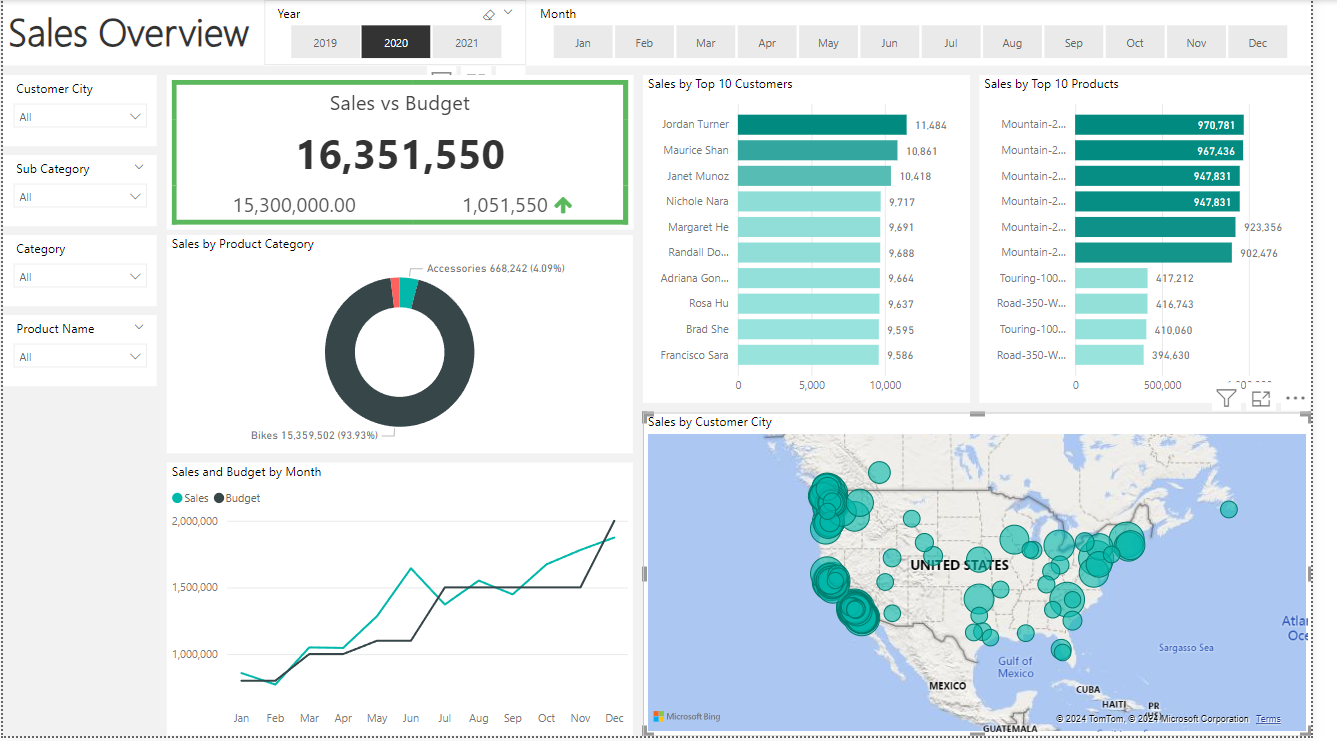

The page's visual inventory and layout, read from the dashboard file:
{"tool":"powerbi","page":{"name":"Sales Overview","canvas":[1280,720],"ordinal":0},"visuals":[{"type":"textbox","box":[0,0,1280,64],"z":0},{"type":"slicer","fields":{"Values":["DIM_Calendar.Year"]},"box":[256,0,256,64],"z":1000},{"type":"slicer","fields":{"Values":["DIM_Calendar.MonthShort"]},"box":[512,0,768,64],"z":2000},{"type":"slicer","fields":{"Values":["DIM_Customers.Customer City"]},"box":[0,73,150.5,69.3],"z":3000},{"type":"slicer","fields":{"Values":["DIM_Products.Product Category"]},"box":[0,229.9,150.5,69.3],"z":4000},{"type":"slicer","fields":{"Values":["DIM_Products.Product Name"]},"box":[0,308.4,150.5,69.3],"z":5000},{"type":"slicer","fields":{"Values":["DIM_Products.Sub Category"]},"box":[0,151.4,150.5,69.3],"z":6000},{"type":"barChart","title":"Sales by Top 10 Products","fields":{"Category":["DIM_Products.Product Name"],"Y":["Analysis Metrics.Sales"]},"box":[955.2,73,324.8,321.1],"z":7000},{"type":"lineChart","fields":{"Category":["DIM_Calendar.MonthShort"],"Y":["Analysis Metrics.Sales","Analysis Metrics.Budget"]},"box":[160.7,452.8,456.3,267.2],"z":8000},{"type":"barChart","title":"Sales by Top 10 Customers","fields":{"Category":["DIM_Customers.Full Name"],"Y":["Analysis Metrics.Sales"]},"box":[625.9,73,320.2,321.1],"z":9000},{"type":"donutChart","fields":{"Y":["Analysis Metrics.Sales"],"Series":["DIM_Products.Product Category"]},"box":[160.6,229.9,456.2,213.5],"z":10000},{"type":"map","fields":{"Category":["DIM_Customers.Customer City"],"Size":["Analysis Metrics.Sales"]},"box":[625.9,403.3,654.1,316.6],"z":12000},{"type":"BBED0A4D4D8D44CE93CF2DAFADEE466C","fields":{"actual":["Analysis Metrics.Sales"],"target2":["Analysis Metrics.Sales / Budget"],"target1":["Analysis Metrics.Budget"]},"box":[160.5,73.4,456.6,151.3],"z":13001}]}

Visuals, with their boxes in screenshot pixels (x1, y1, x2, y2), scaled from the page's 1280x720 canvas onto the 1337x741 screenshot:
textbox: <region>0, 0, 1336, 66</region>
slicer - DIM_Calendar.Year: <region>267, 0, 535, 66</region>
slicer - DIM_Calendar.MonthShort: <region>535, 0, 1336, 66</region>
slicer - DIM_Customers.Customer City: <region>0, 75, 157, 146</region>
slicer - DIM_Products.Product Category: <region>0, 237, 157, 308</region>
slicer - DIM_Products.Product Name: <region>0, 317, 157, 389</region>
slicer - DIM_Products.Sub Category: <region>0, 156, 157, 227</region>
"Sales by Top 10 Products" barChart: <region>998, 75, 1336, 406</region>
lineChart - DIM_Calendar.MonthShort x Analysis Metrics.Sales: <region>168, 466, 644, 740</region>
"Sales by Top 10 Customers" barChart: <region>654, 75, 988, 406</region>
donutChart - Analysis Metrics.Sales x DIM_Products.Product Category: <region>168, 237, 644, 456</region>
map - DIM_Customers.Customer City x Analysis Metrics.Sales: <region>654, 415, 1336, 740</region>
BBED0A4D4D8D44CE93CF2DAFADEE466C - Analysis Metrics.Sales x Analysis Metrics.Sales / Budget: <region>168, 76, 645, 231</region>
